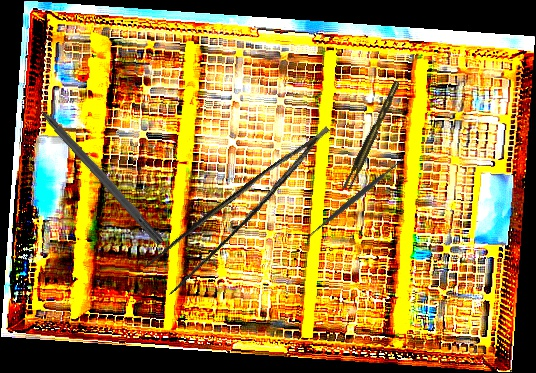Hook Surgical: (21, 87, 167, 247)
Spatula Surgical: (300, 153, 410, 245)
Tissue Forceps: (138, 125, 353, 299), (338, 80, 406, 193)
